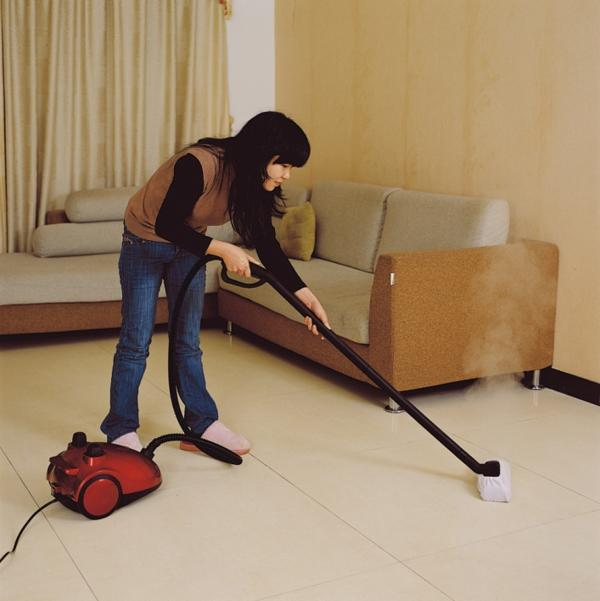person: (99, 110, 333, 460)
